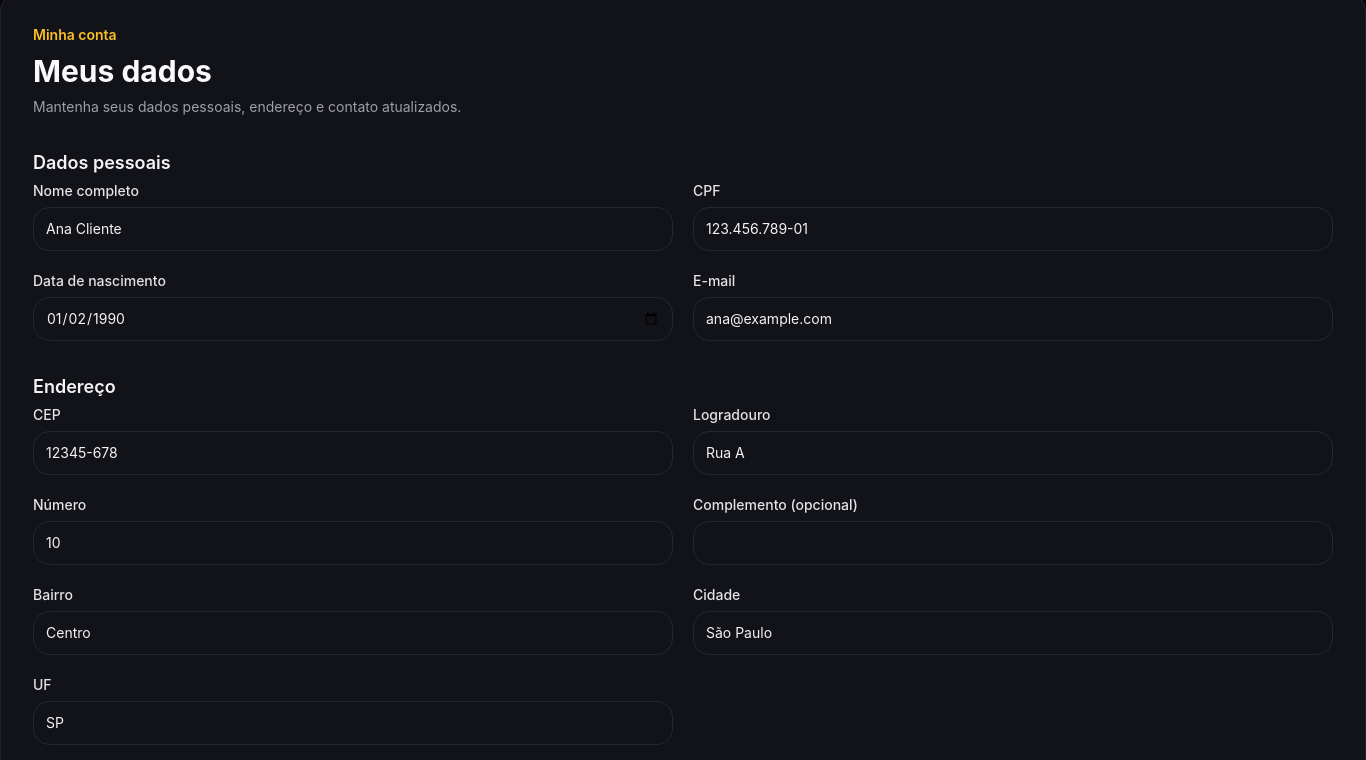
Scenario: CustomerDataForm › maps a rejected 422 attempt to exact fields and preserves edited values
Replace the text in the field labelled "Nome completo" with "Valor preservado" at [353, 229], box 33,207 -> 673,251
(page scrolled)
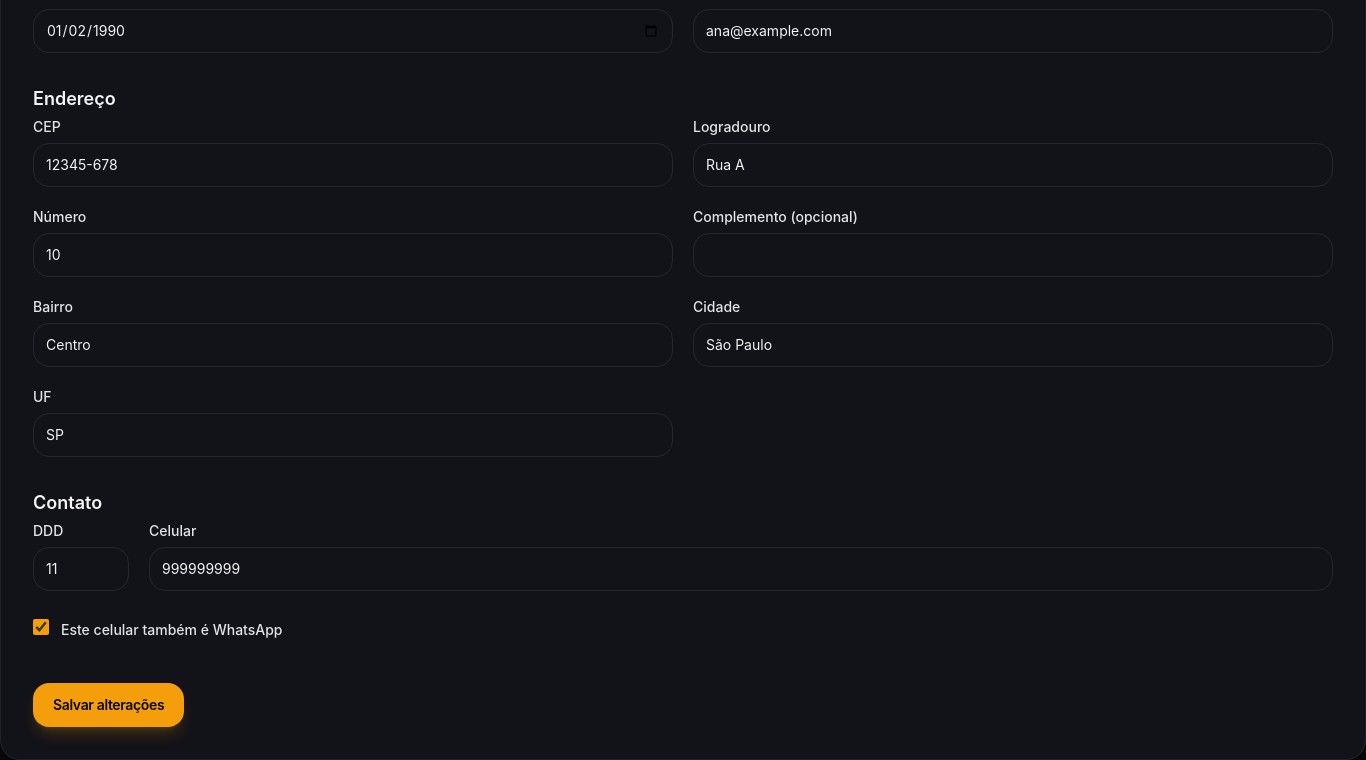
Click the button "Salvar alterações" at [109, 705], box 33,683 -> 184,727
(page scrolled)
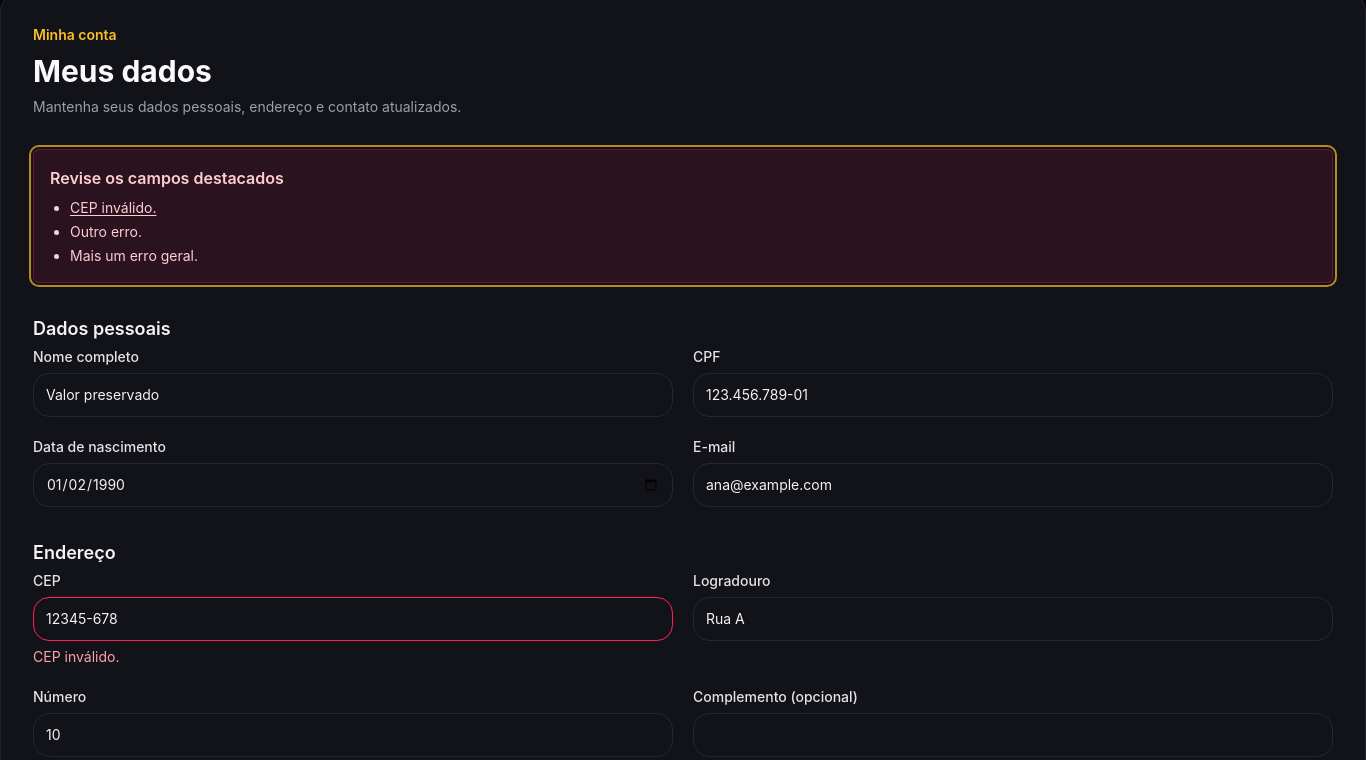
Result: the link "CEP inválido." is shown at 70,199 -> 156,216
Result: the list item "Outro erro." is shown at 70,223 -> 142,240
Result: the list item "Mais um erro geral." is shown at 70,247 -> 198,264
